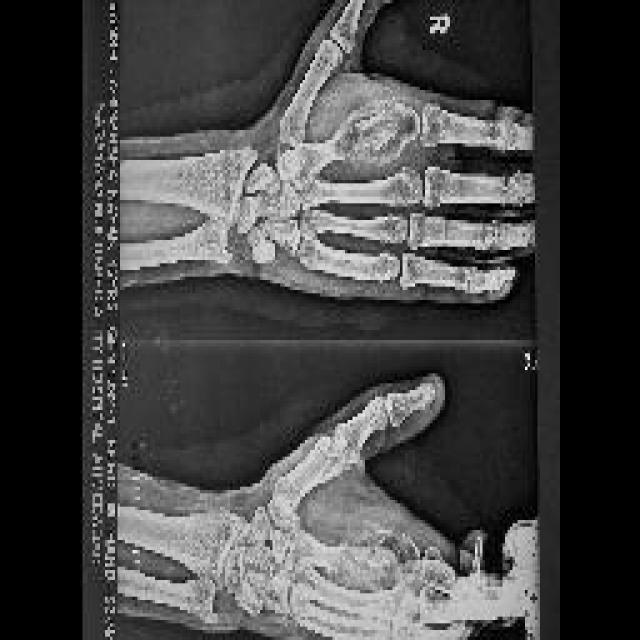bone-cancer: (330, 104, 415, 162), (334, 532, 418, 586)
